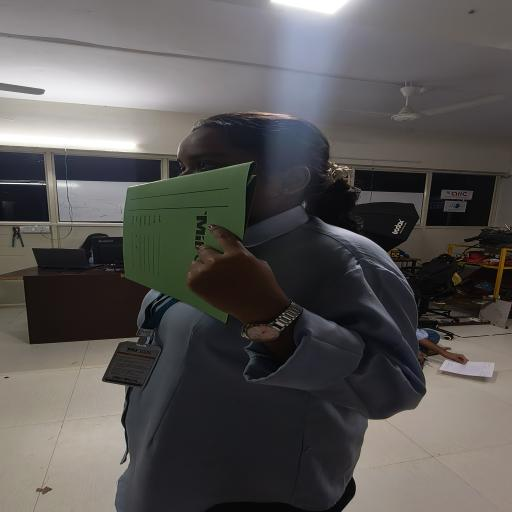survivor: (114, 111, 428, 512), (415, 328, 470, 367), (78, 233, 110, 266)
